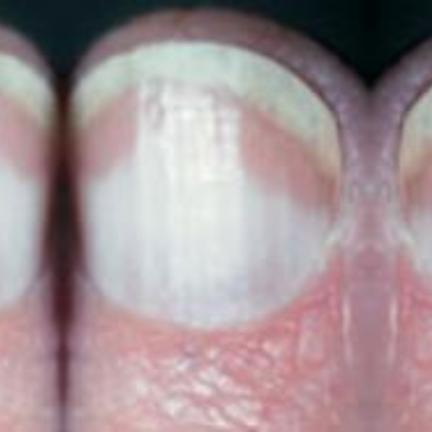Nail: (66, 41, 341, 324), (0, 54, 58, 303), (398, 83, 432, 287)
